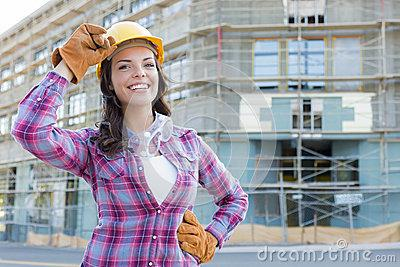helmet: (100, 21, 167, 88)
